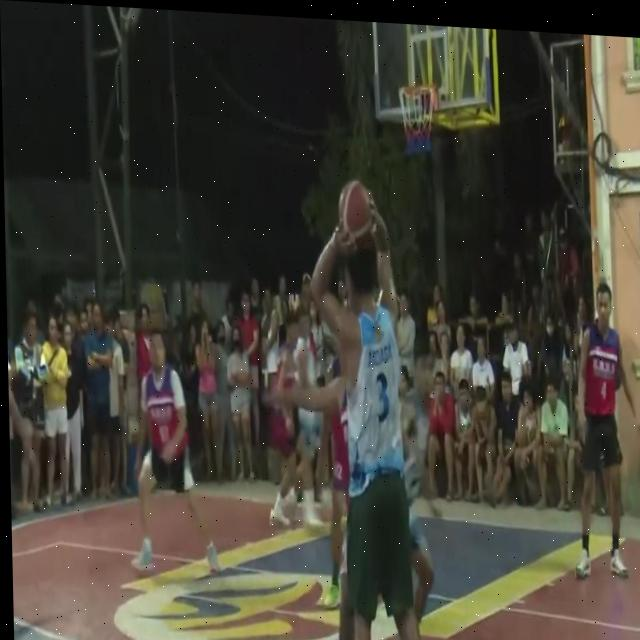basketball: (332, 171, 377, 248)
hoop: (398, 82, 436, 159)
